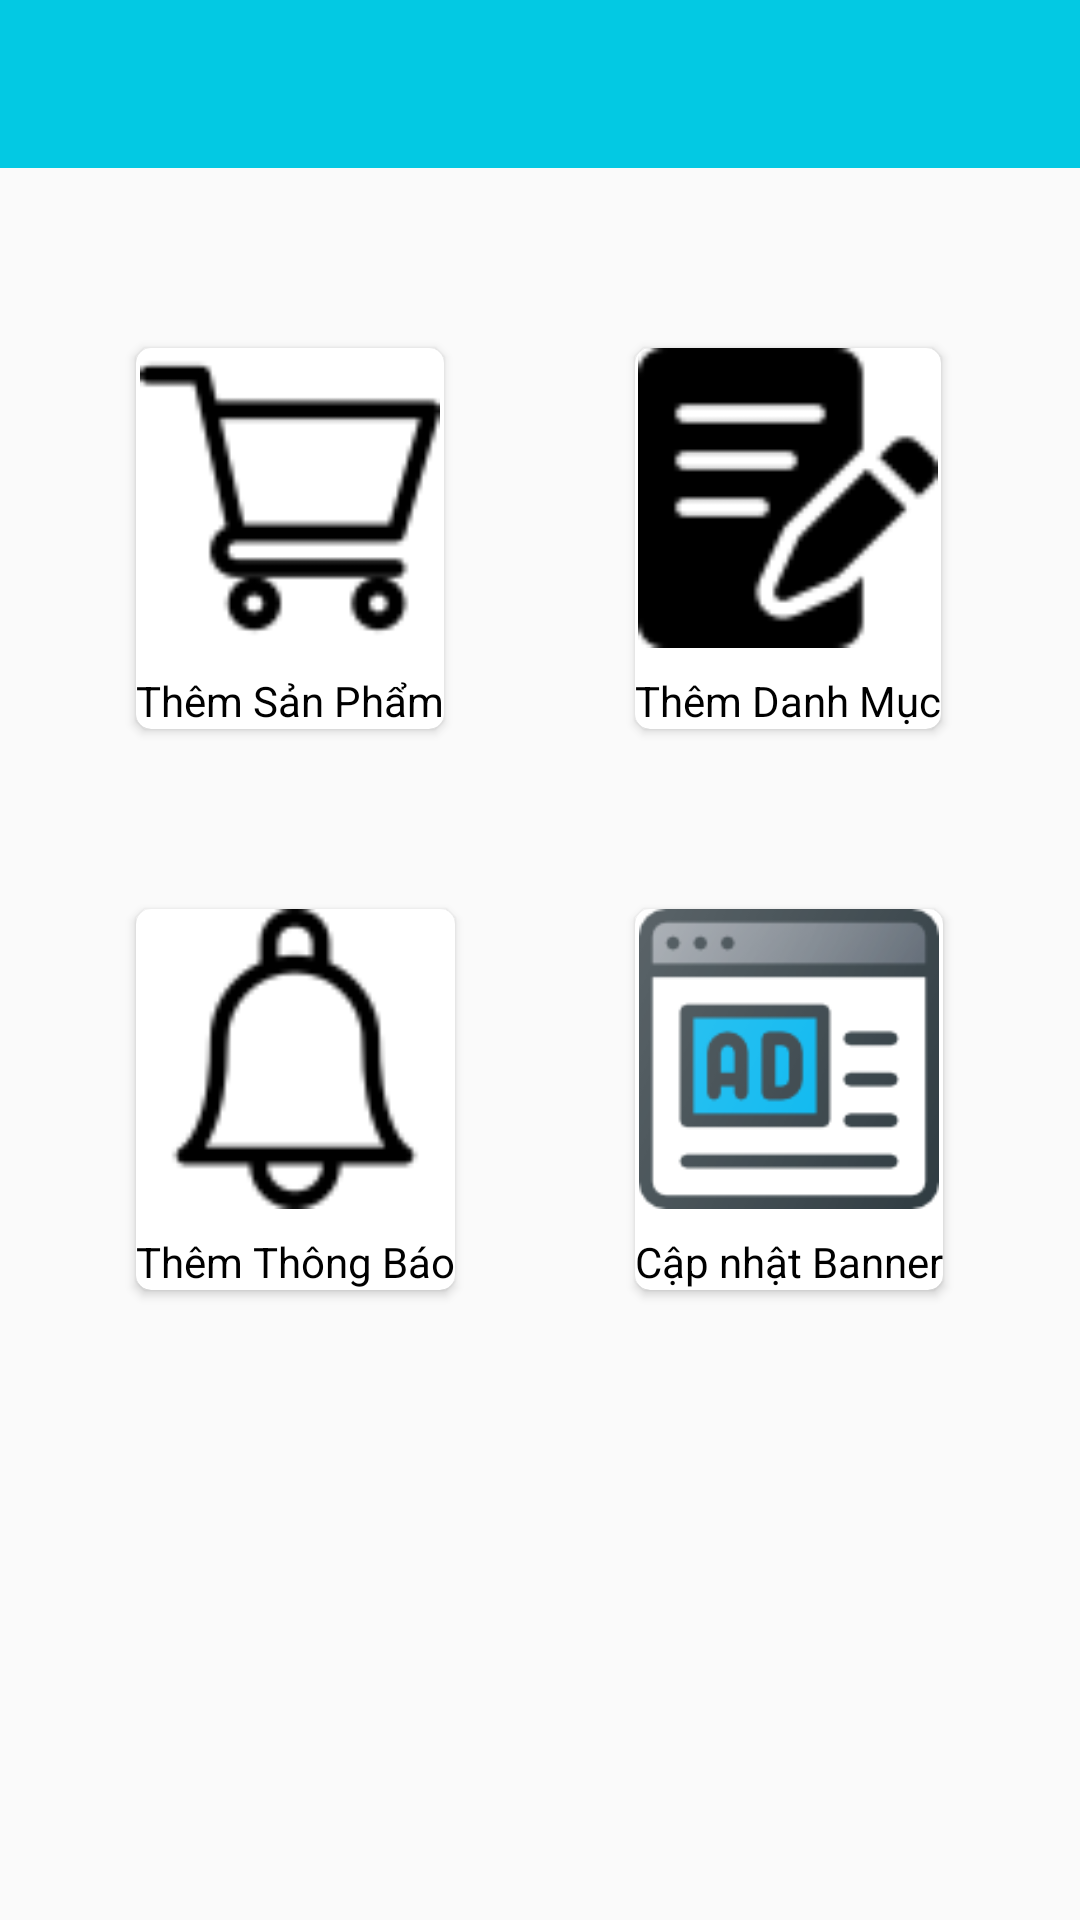

Icon click points for this 1080 × 1920 phone screenshot, format [x,y]:
review: [788,498]
supermarket: [290,490]
